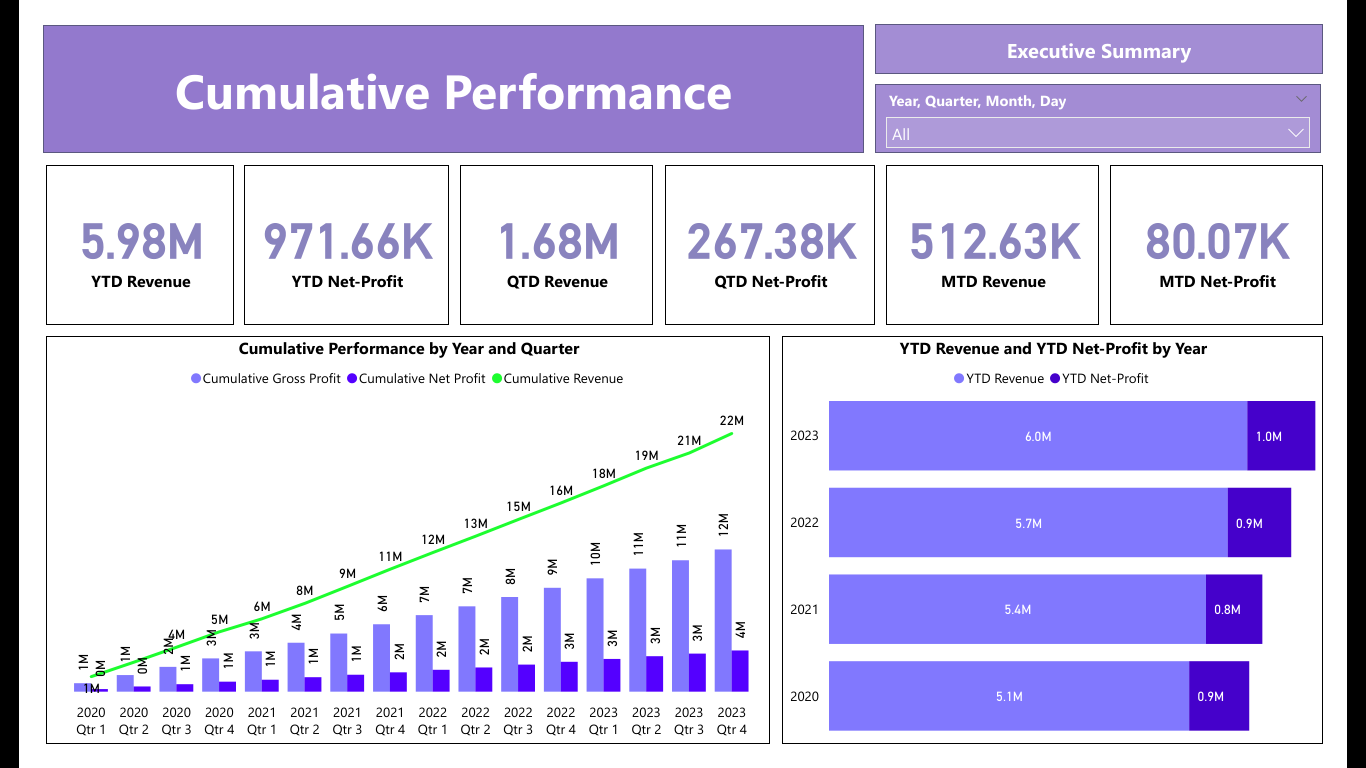

The dashboard page shown, as its layout file describes it:
{"tool":"powerbi","page":{"name":"Cumulative Performance","canvas":[1280,720],"ordinal":1},"visuals":[{"type":"card","fields":{"Values":["Measures_table.YTDRevenue"]},"box":[2.9,141.1,188.1,160.2],"z":0},{"type":"card","fields":{"Values":["Measures_table.QTDRevenue"]},"box":[417.3,141.1,192.5,160.2],"z":1000},{"type":"card","fields":{"Values":["Measures_table.MTDRevenue"]},"box":[843.4,141.1,213.1,160.2],"z":2000},{"type":"card","fields":{"Values":["Measures_table.YTDNetProfit"]},"box":[201.3,141.1,204.2,160.2],"z":3000},{"type":"card","fields":{"Values":["Measures_table.QTDNetProfit"]},"box":[621.6,141.1,210.1,160.2],"z":4000},{"type":"card","fields":{"Values":["Measures_table.MTDNetProfit"]},"box":[1066.8,141.1,213.1,160.2],"z":5000},{"type":"lineClusteredColumnComboChart","title":"Cumulative Performance by Year and Quarter","fields":{"Category":["Dates_table.Date.Variation.Date Hierarchy.Year","Dates_table.Date.Variation.Date Hierarchy.Quarter","Dates_table.Date.Variation.Date Hierarchy.Month","Dates_table.Date.Variation.Date Hierarchy.Day"],"Y":["Measures_table.Cumulative Gross Profit","Measures_table.Cumulative Net Profit"],"Y2":["Measures_table.Cumulative Sales"]},"box":[2.9,311.5,724.4,408.5],"z":6000},{"type":"barChart","fields":{"Category":["Dates_table.Date.Variation.Date Hierarchy.Year","Dates_table.Date.Variation.Date Hierarchy.Quarter","Dates_table.Date.Variation.Date Hierarchy.Month","Dates_table.Date.Variation.Date Hierarchy.Day"],"Y":["Measures_table.YTDRevenue","Measures_table.YTDNetProfit"]},"box":[739.1,311.5,540.7,408.5],"z":7000},{"type":"slicer","fields":{"Values":["Dates_table.Date.Variation.Date Hierarchy.Year","Dates_table.Date.Variation.Date Hierarchy.Quarter","Dates_table.Date.Variation.Date Hierarchy.Month","Dates_table.Date.Variation.Date Hierarchy.Day"]},"box":[831.7,60.2,446.7,69.1],"z":7001},{"type":"pageNavigator","box":[831.7,0,448.2,50],"z":7002},{"type":"shape","box":[0,1.5,821.4,127.8],"z":7003}]}

Visuals, with their boxes in screenshot pixels (x1, y1, x2, y2), scaled from the page's 1280x720 canvas onto the 1366x768 screenshot:
card - Measures_table.YTDRevenue: (3, 151, 204, 321)
card - Measures_table.QTDRevenue: (445, 151, 651, 321)
card - Measures_table.MTDRevenue: (900, 151, 1127, 321)
card - Measures_table.YTDNetProfit: (215, 151, 433, 321)
card - Measures_table.QTDNetProfit: (663, 151, 888, 321)
card - Measures_table.MTDNetProfit: (1138, 151, 1365, 321)
"Cumulative Performance by Year and Quarter" lineClusteredColumnComboChart: (3, 332, 776, 767)
barChart - Dates_table.Date.Variation.Date Hierarchy.Year x Dates_table.Date.Variation.Date Hierarchy.Quarter: (789, 332, 1365, 767)
slicer - Dates_table.Date.Variation.Date Hierarchy.Year x Dates_table.Date.Variation.Date Hierarchy.Quarter: (888, 64, 1364, 138)
pageNavigator: (888, 0, 1365, 53)
shape: (0, 2, 877, 138)
